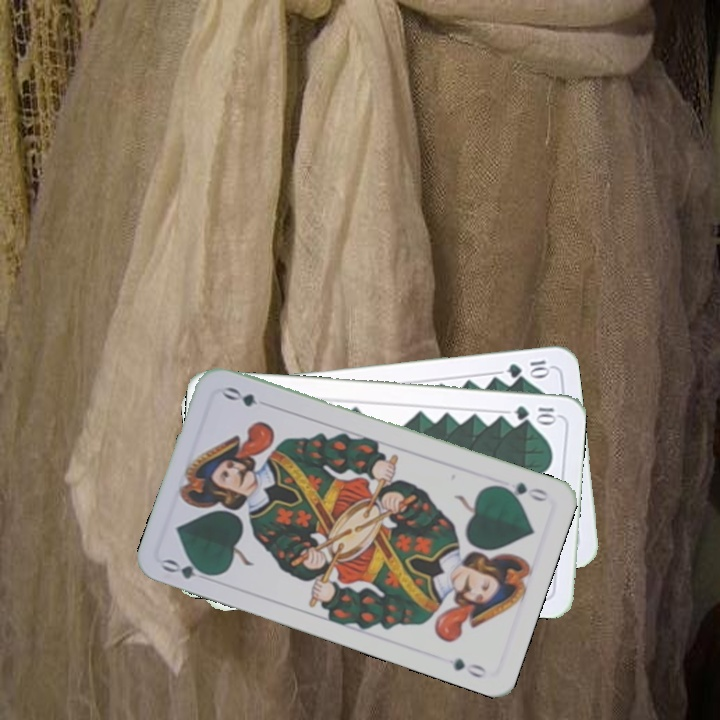G10: (503, 356, 552, 380), (511, 402, 559, 424)
GO: (158, 555, 218, 585), (493, 478, 551, 505)
